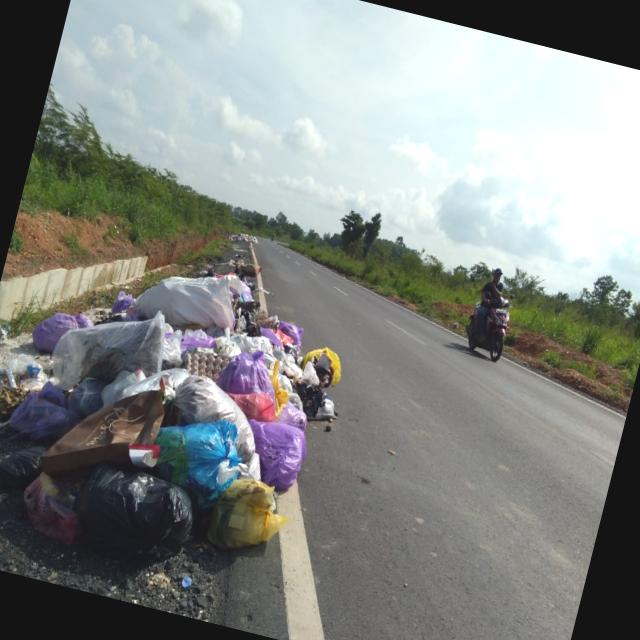garbage: (0, 213, 367, 620)
